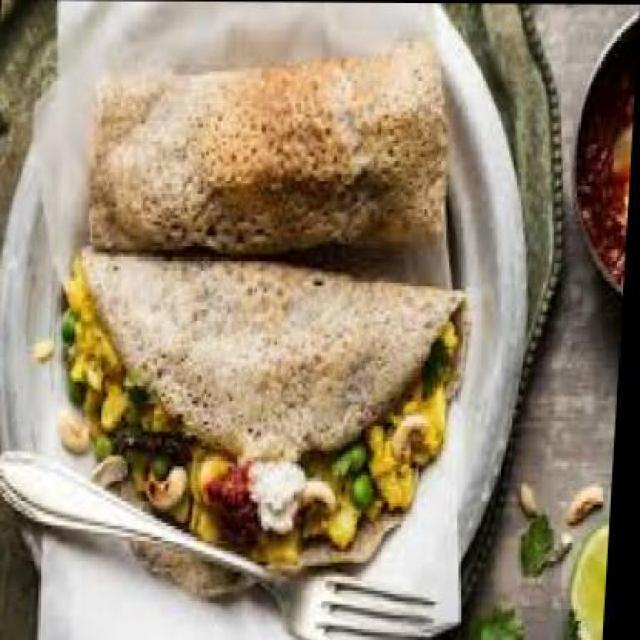dosa: (50, 251, 475, 597), (90, 46, 456, 254)
